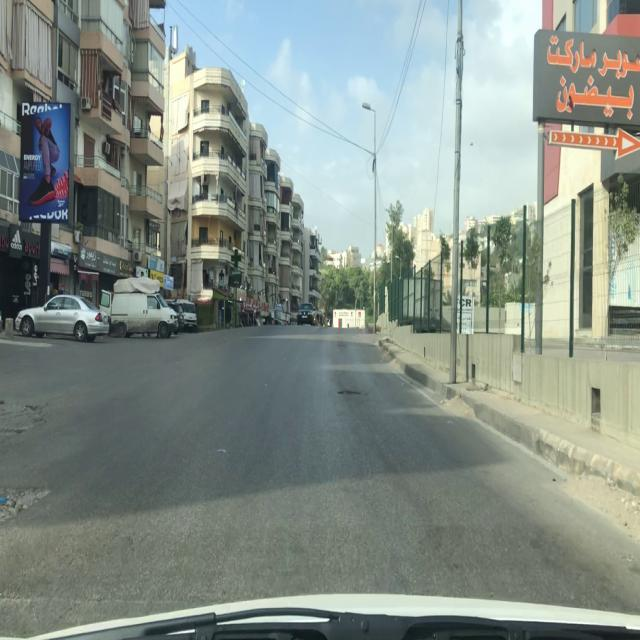Pothole: (0, 478, 50, 536), (337, 389, 361, 398), (334, 341, 348, 348)
